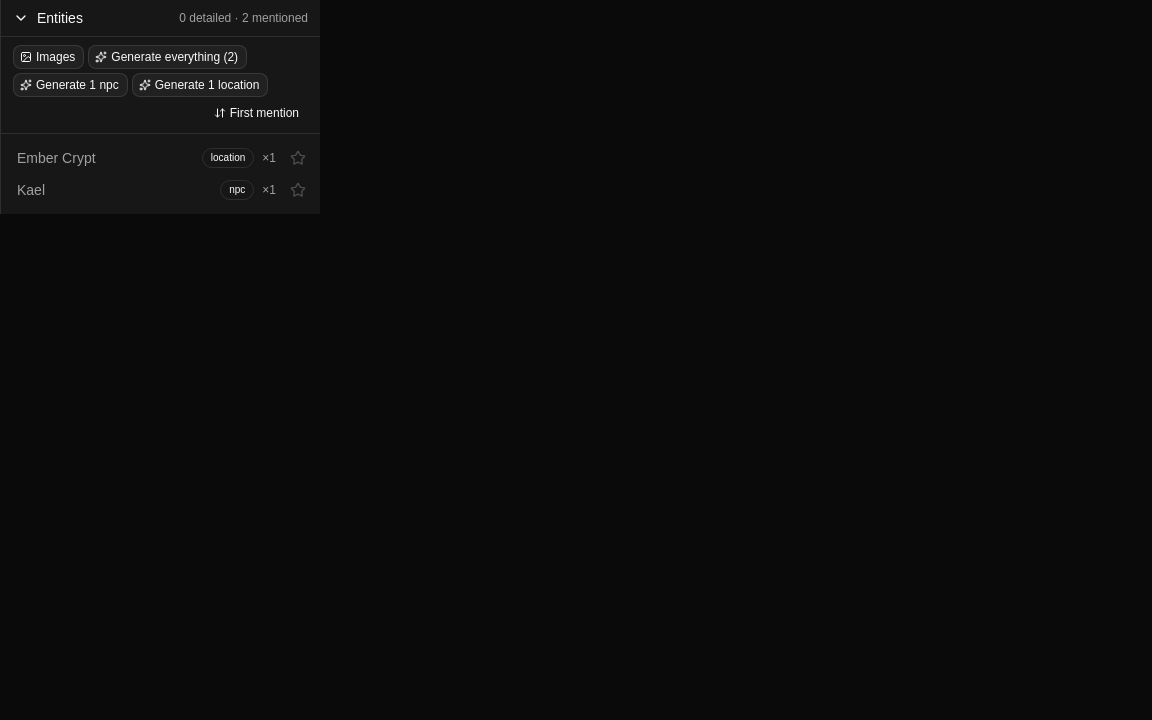
Test: the entity sidebar control › appears with the work count and lists EXACTLY what the sweep would do
The width and height of the screenshot is (1152, 720).
Click the button with test id "generate-everything".
click(168, 57)  # box [88,45,247,69]
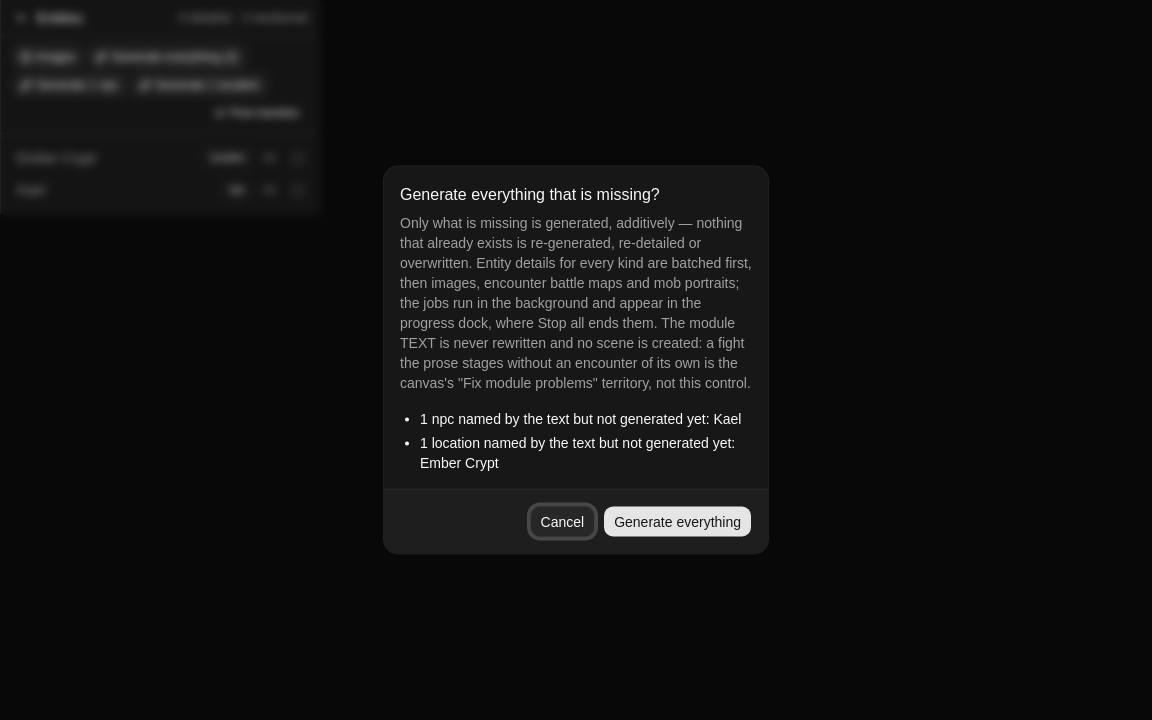
Expected: the list item with test id "generate-everything-line" reads "1 location named by the text but not generated yet: Ember Crypt", [420,434,735,470]
Expected: the list item with test id "generate-everything-line" reads "1 npc named by the text but not generated yet: Kael", [420,410,742,426]
Expected: the text "never rewritten and no scene is created" is shown, [400,214,752,390]
